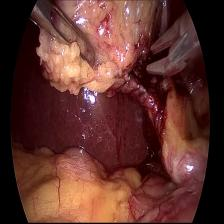Clipper: (143, 9, 199, 79)
Grasper: (22, 0, 98, 71)
